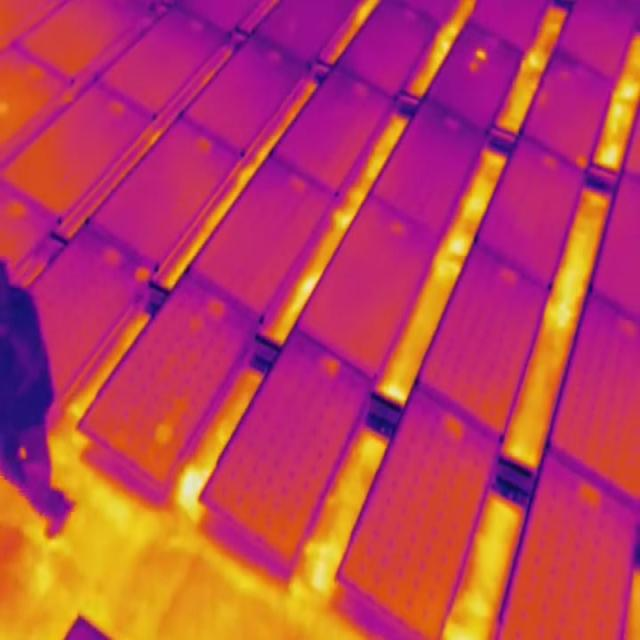Orange-Spots: (153, 416, 175, 449), (468, 47, 486, 72), (577, 154, 587, 168)
